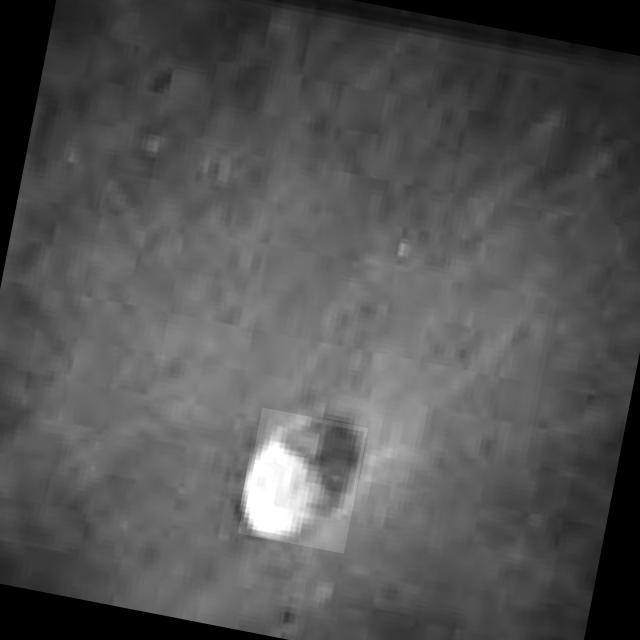crater: (238, 408, 368, 554)
